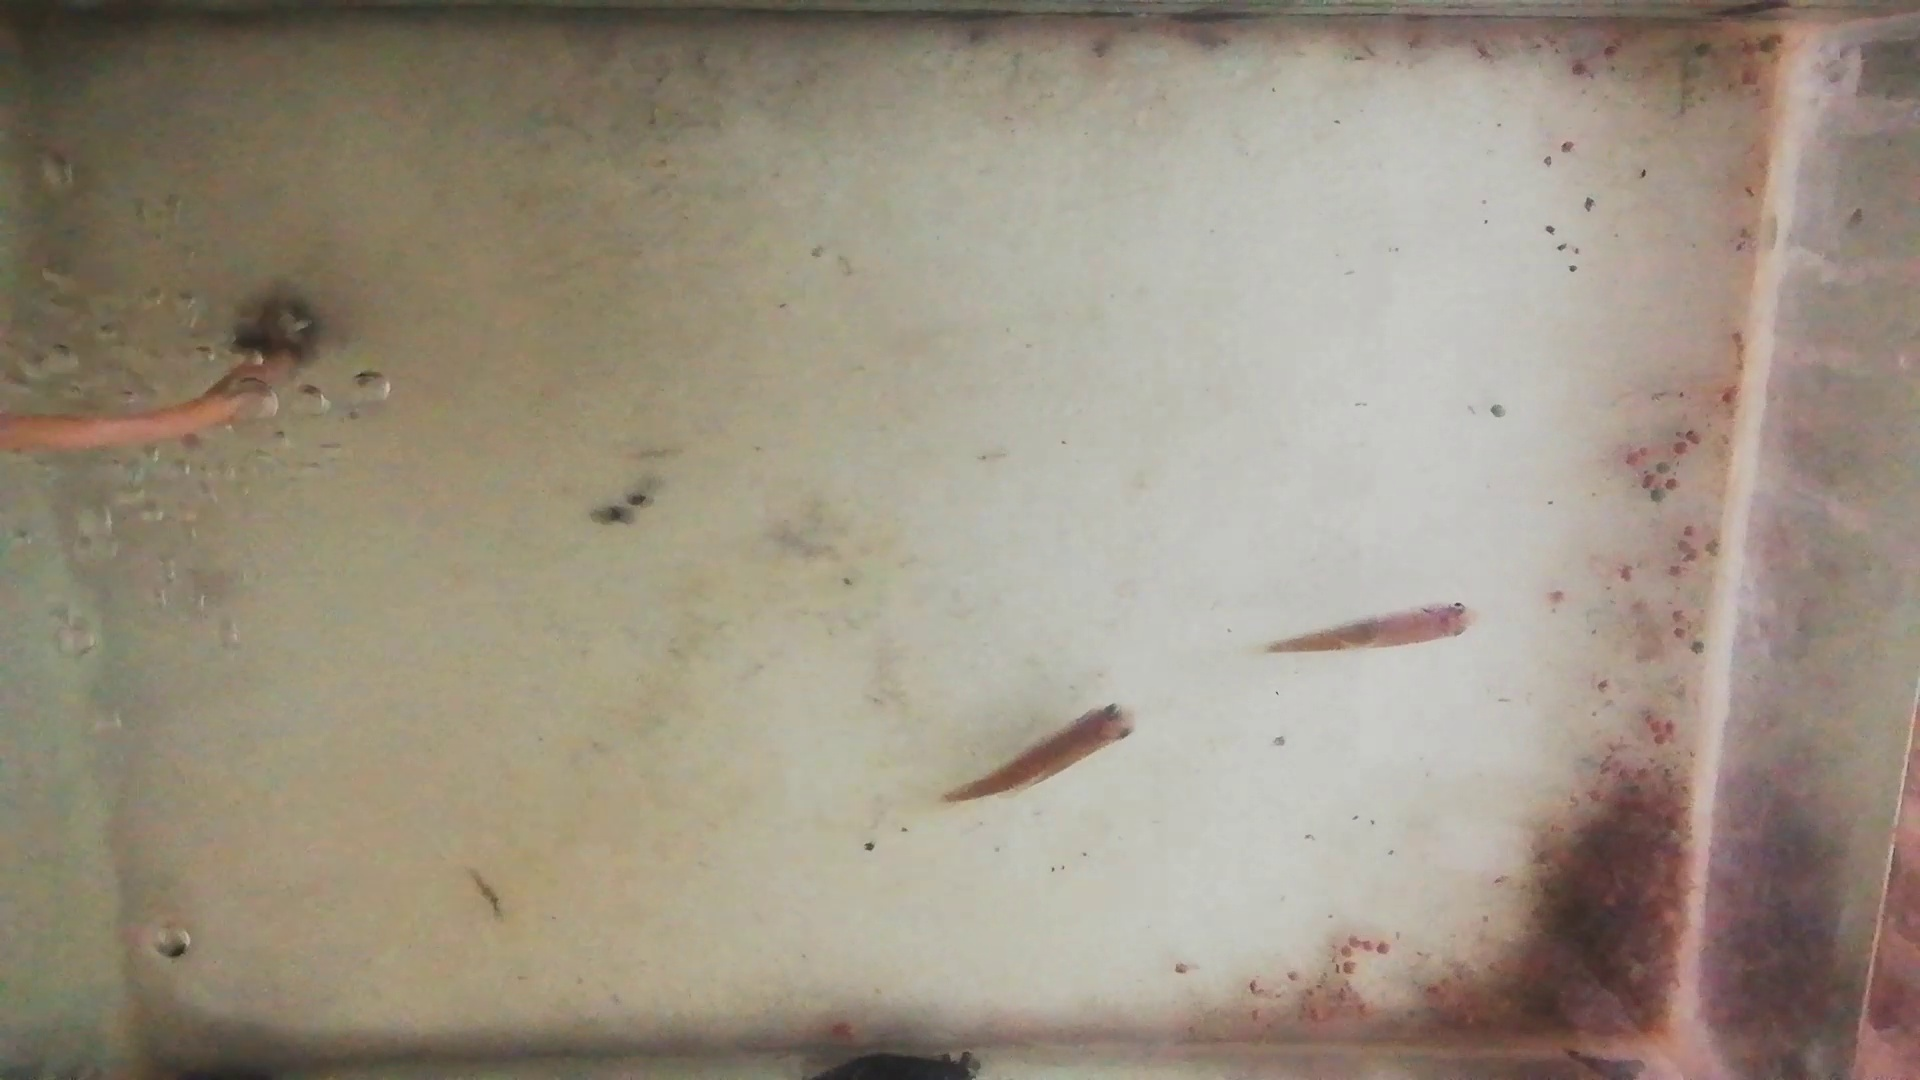fish: (940, 700, 1134, 804), (1269, 600, 1474, 655)
